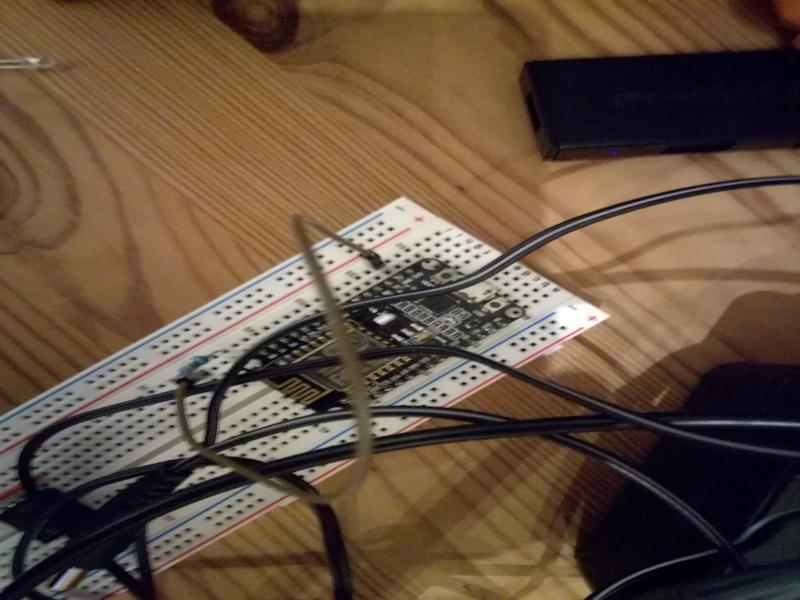ESP8266: (240, 255, 530, 418)
